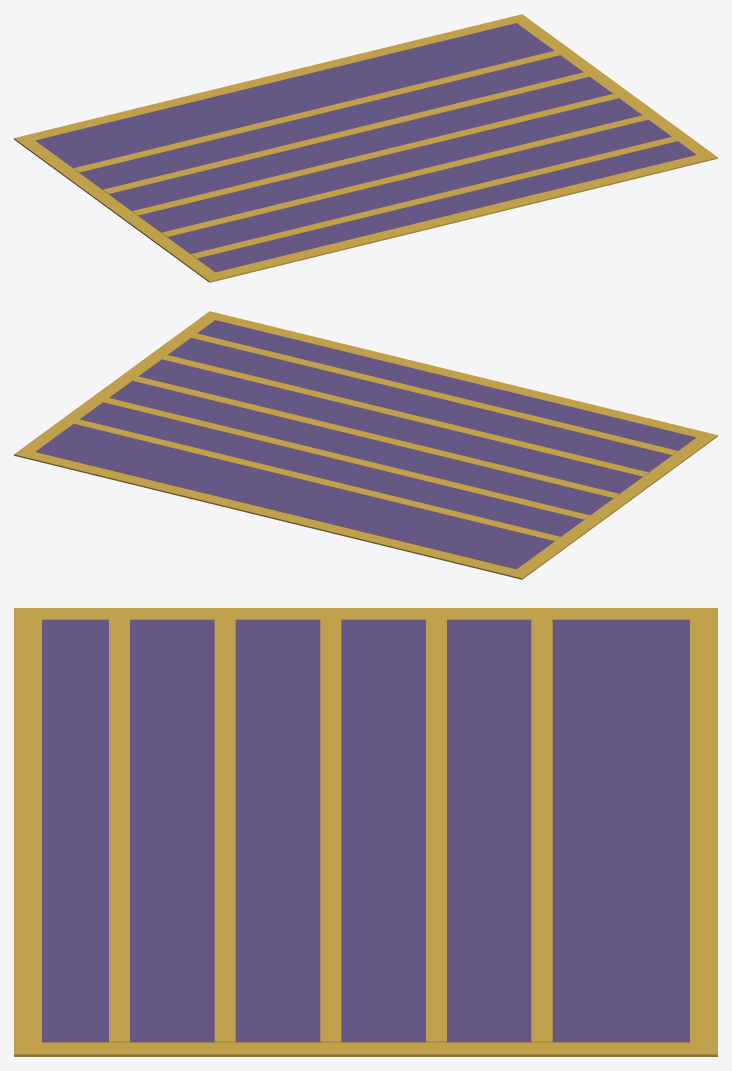
File: rug_stripes.fbx
The picture shows the model from 3 angles, top to bottom: view 1: azimuth 30°, elevation 25°; view 2: azimuth 150°, elevation 25°; view 3: azimuth 270°, elevation 25°; orthographic projection. The views are drawn at different scales.
Visible parts, largest first — view 1: rug_stripes; view 2: rug_stripes; view 3: rug_stripes.
Part boxes in pixels (left/top/right/bottom): rug_stripes: left=14, top=14, right=717, bottom=282; rug_stripes: left=14, top=311, right=717, bottom=579; rug_stripes: left=14, top=608, right=717, bottom=1056.
Bounding box in the file's own units: 3 × 0.01 × 2.
